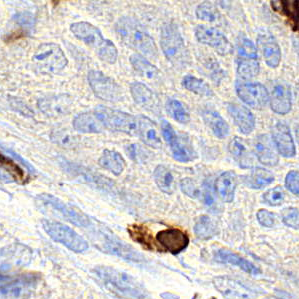Lymphocyte: (156, 228, 198, 255)
